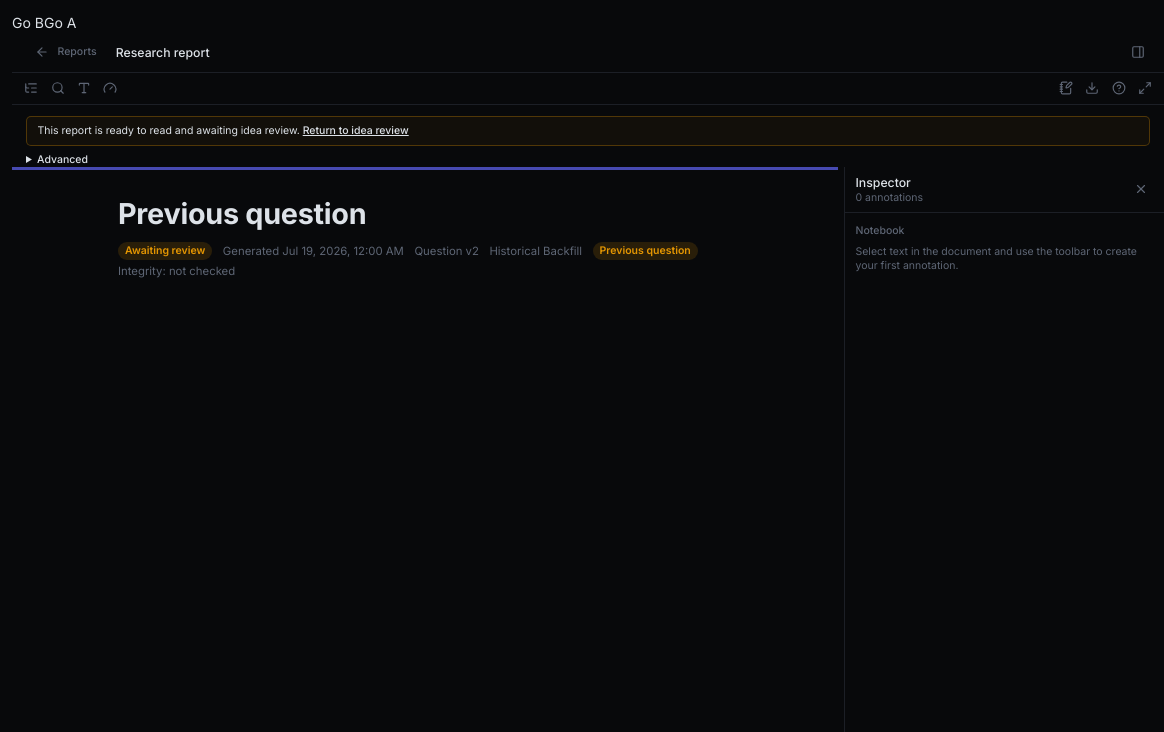
Test: ResearchReportPage › replaces report A with B’s own 500 state instead of showing A again
The width and height of the screenshot is (1164, 732).
Expected: the heading "Previous question" is shown, 118,196 -> 366,230
Click the link "Go B" at (28,22), box 12,14 -> 44,31
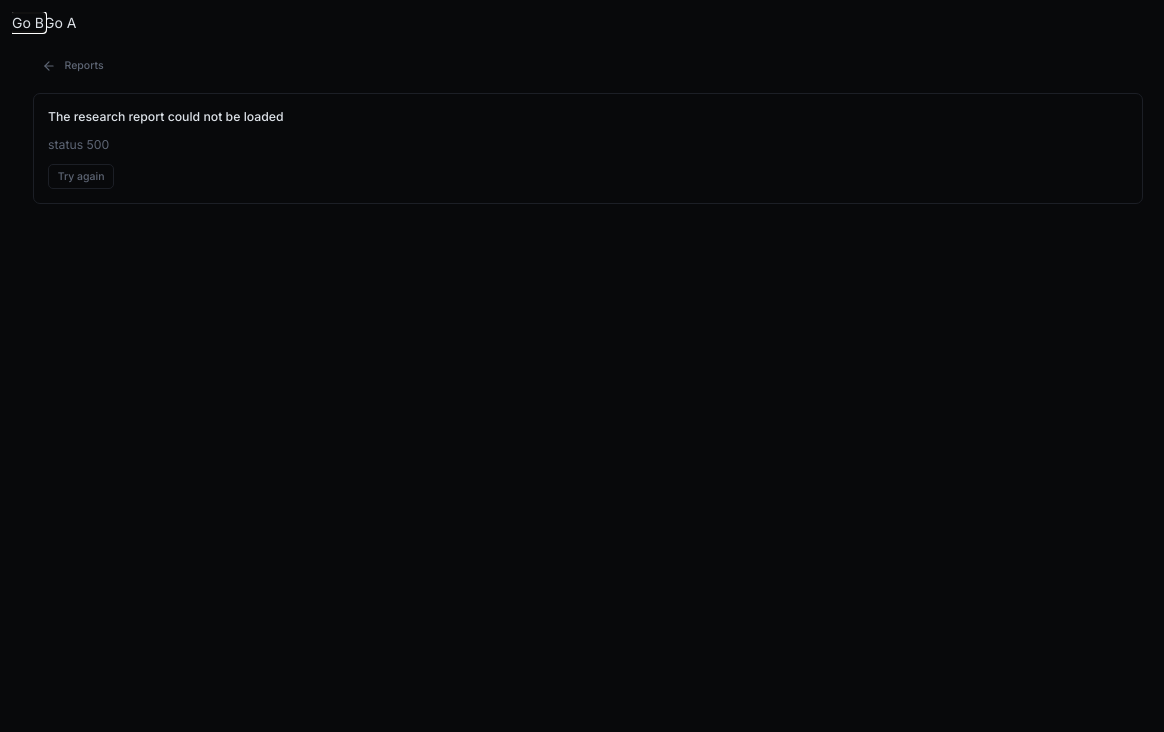
Result: the text "The research report could not be loaded" is shown at 48,108 -> 284,124
Result: the heading "Previous question" is gone
